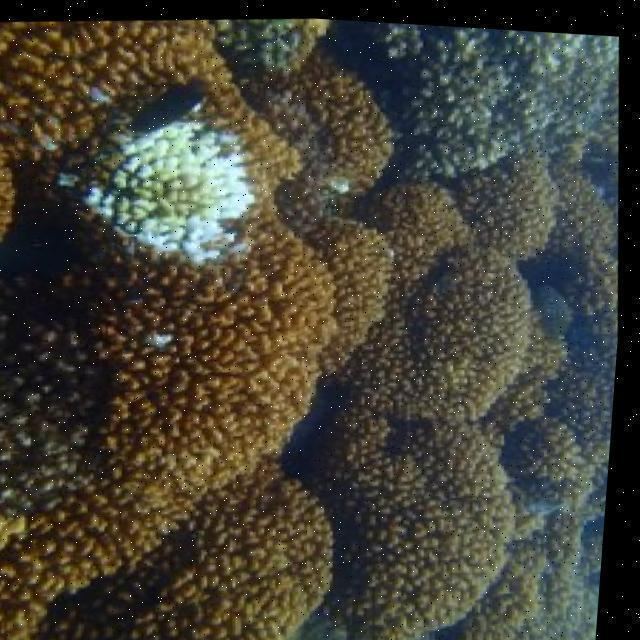Bleached Coral: (86, 121, 251, 261)
Healthy Coral: (4, 296, 576, 640), (313, 196, 543, 330)
